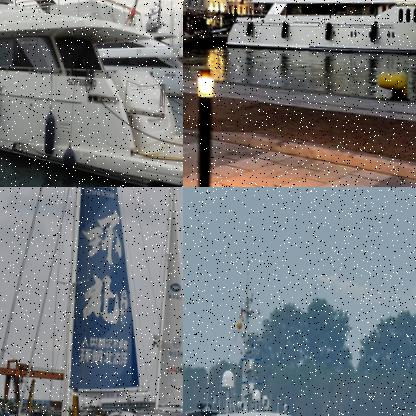Patrol Boat: (183, 257, 343, 415)
Sails Boat: (0, 187, 182, 415)
Yacht: (0, 0, 182, 186), (225, 0, 415, 63)
